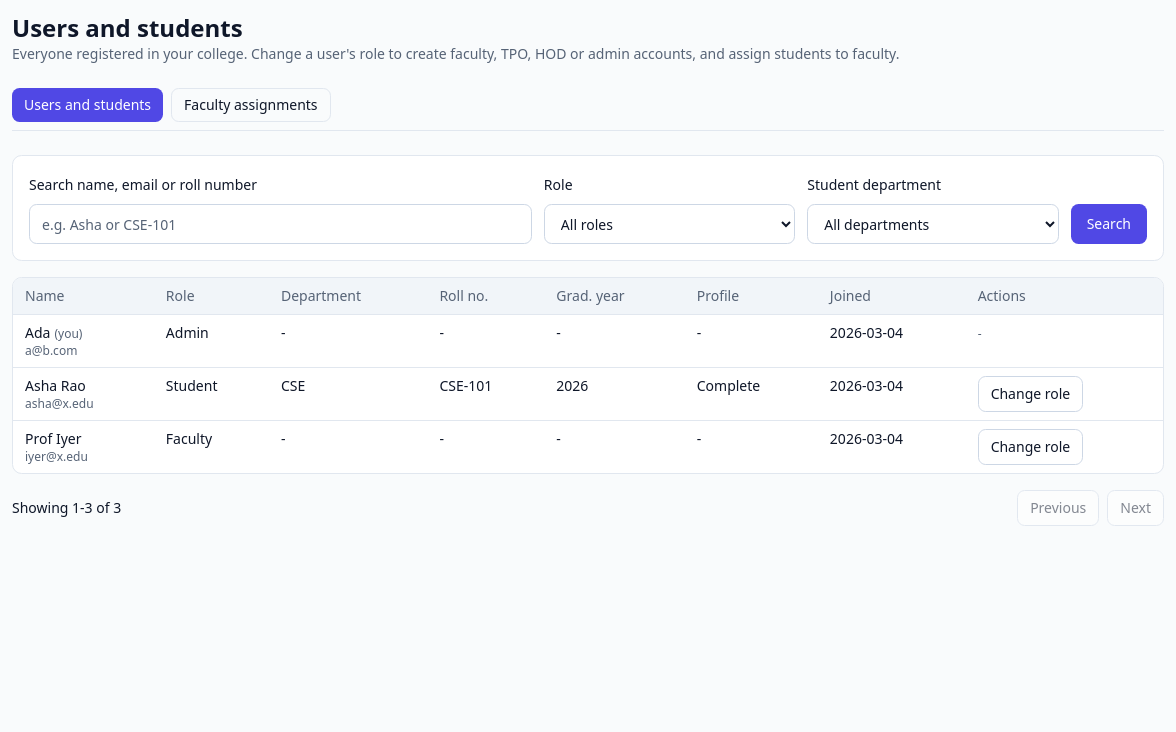
Scenario: AdminUsersPage - faculty assignments tab › lists current assignments with names
Click the tab "Faculty assignments".
click(251, 105)  # box [171, 88, 331, 122]
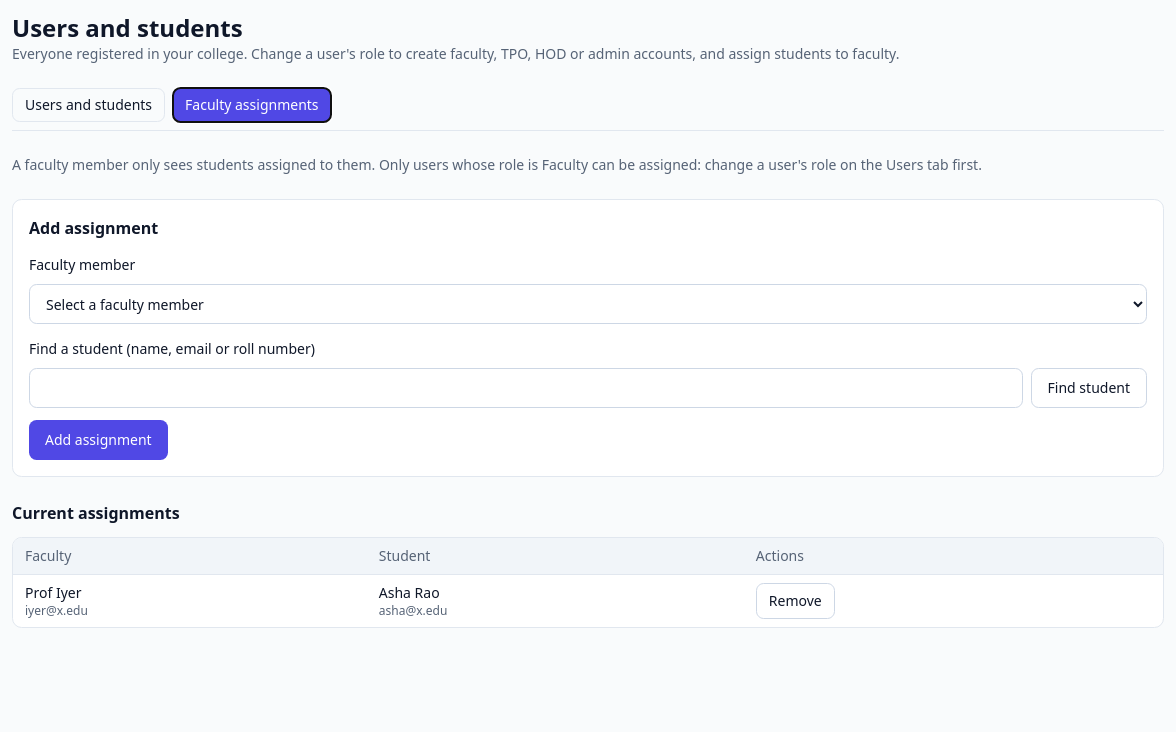
Check: the text "Prof Iyer" is shown, box [25, 583, 82, 602]
Check: the heading "Current assignments" is shown, box [12, 502, 180, 524]
